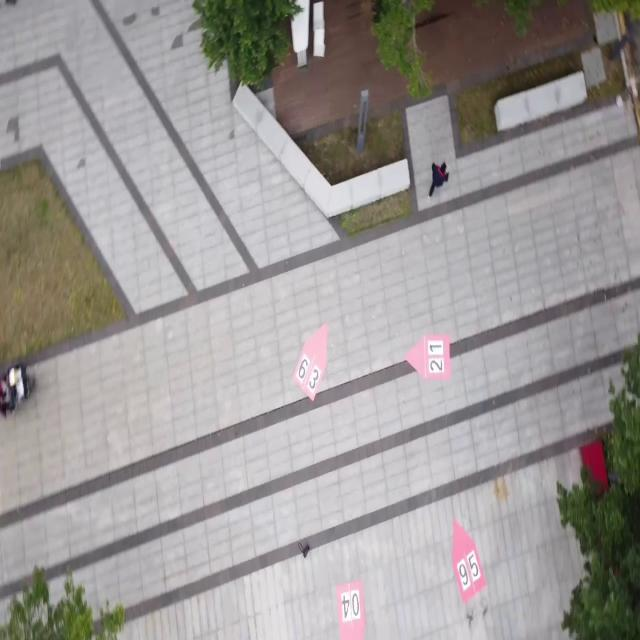-sign-: (436, 517, 492, 608), (291, 324, 333, 404), (402, 326, 456, 388)
